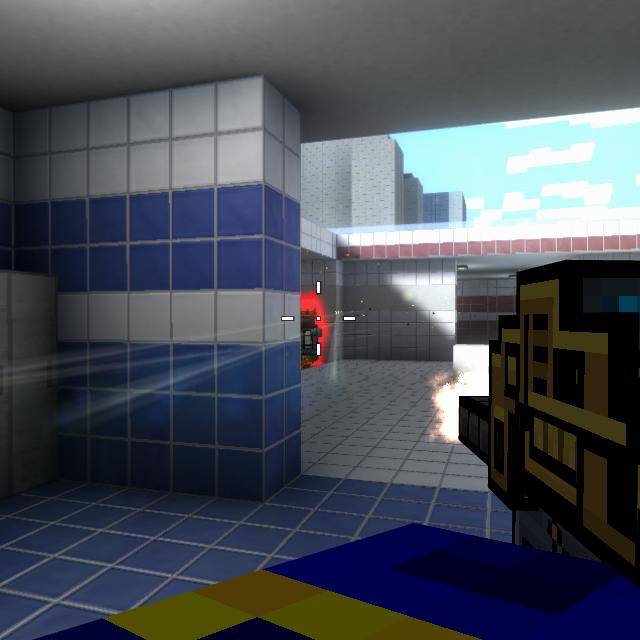Enemy: (302, 311, 323, 368)
